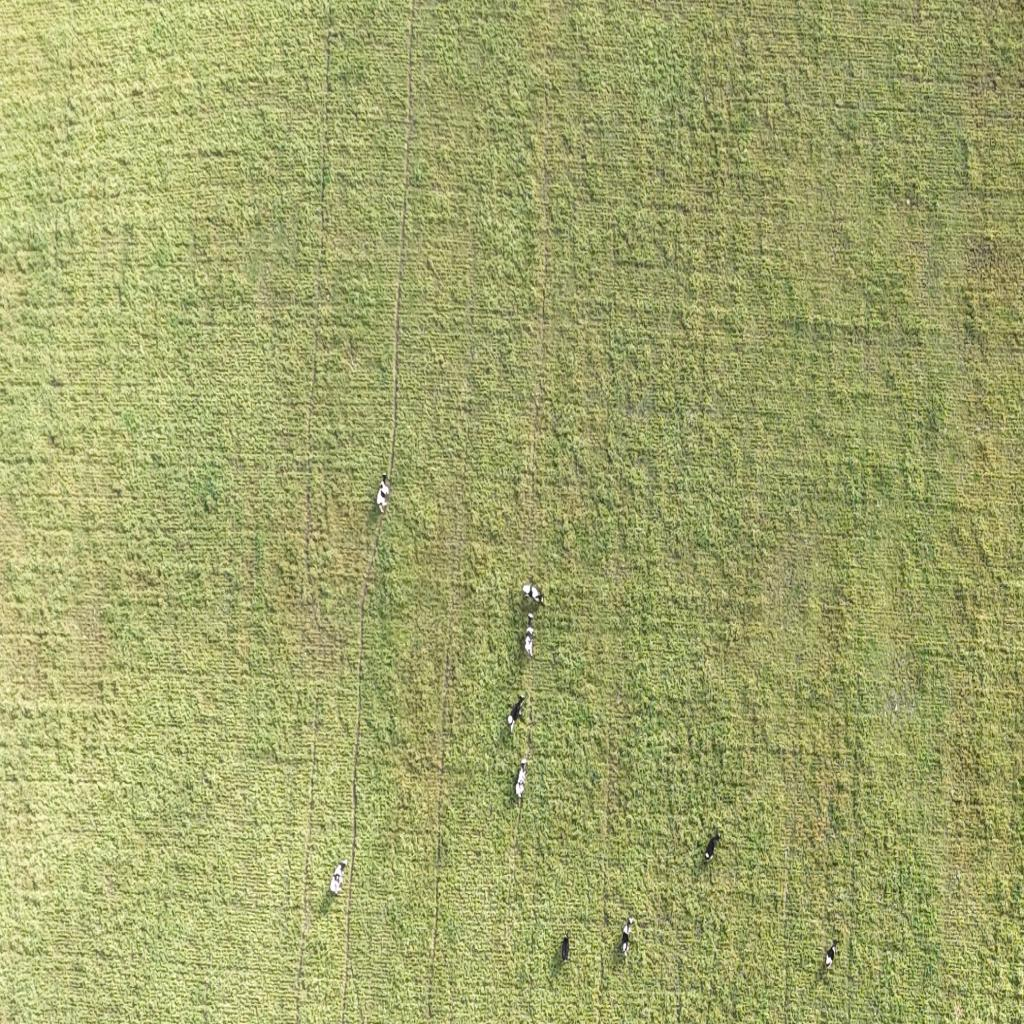cow: (330, 858, 350, 894), (507, 694, 526, 730), (620, 915, 636, 957), (704, 830, 722, 862), (522, 582, 545, 607), (514, 760, 528, 800), (376, 470, 389, 510), (524, 616, 536, 658), (560, 923, 570, 965), (824, 941, 838, 970)
